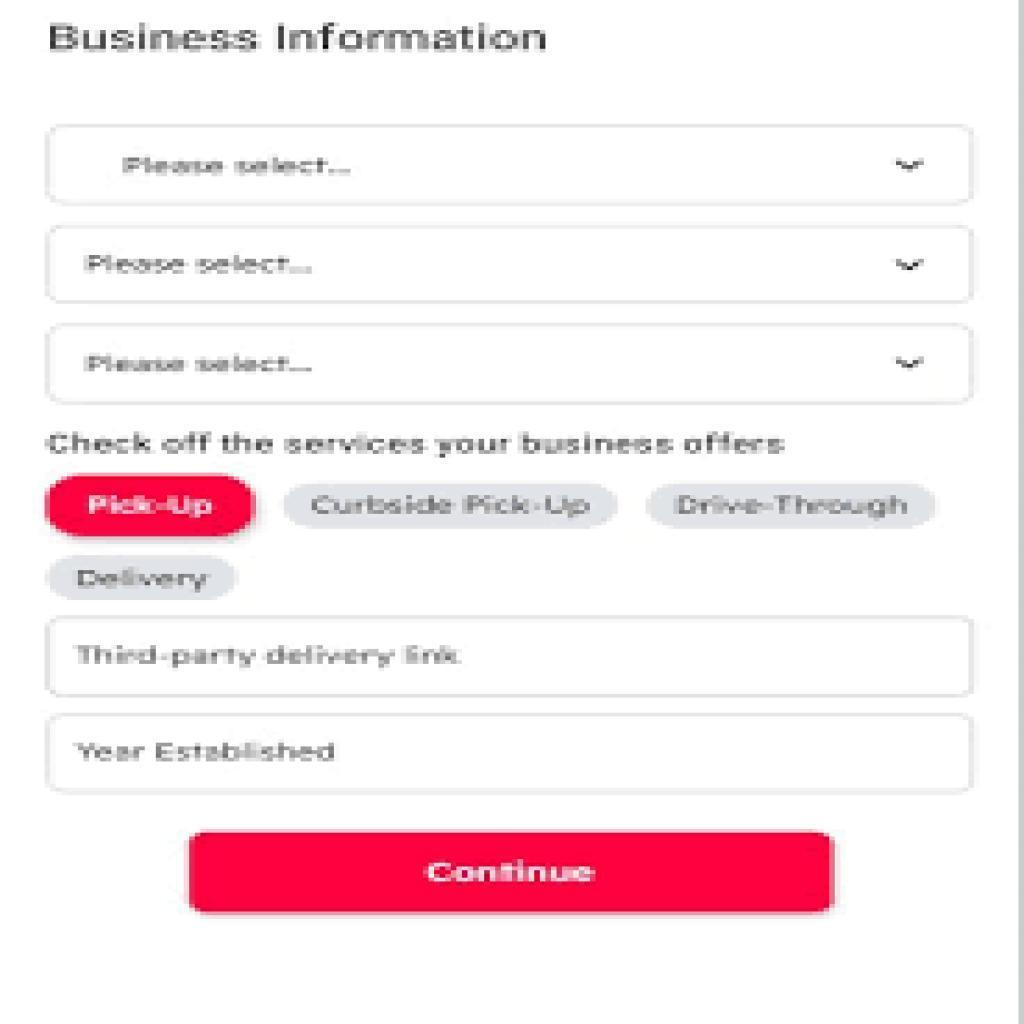button: (191, 834, 838, 916), (282, 479, 618, 529), (646, 483, 941, 535), (43, 474, 256, 536), (49, 556, 238, 606)
dropdown: (49, 126, 972, 205), (50, 326, 968, 405), (46, 228, 972, 304)
input: (49, 715, 972, 793), (53, 621, 970, 696)
